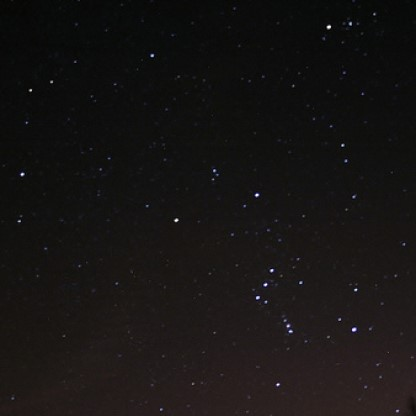Orion: (159, 207, 184, 234), (342, 317, 363, 341), (269, 375, 290, 398), (245, 186, 266, 202), (250, 289, 265, 310), (257, 275, 272, 292), (266, 257, 277, 277)
